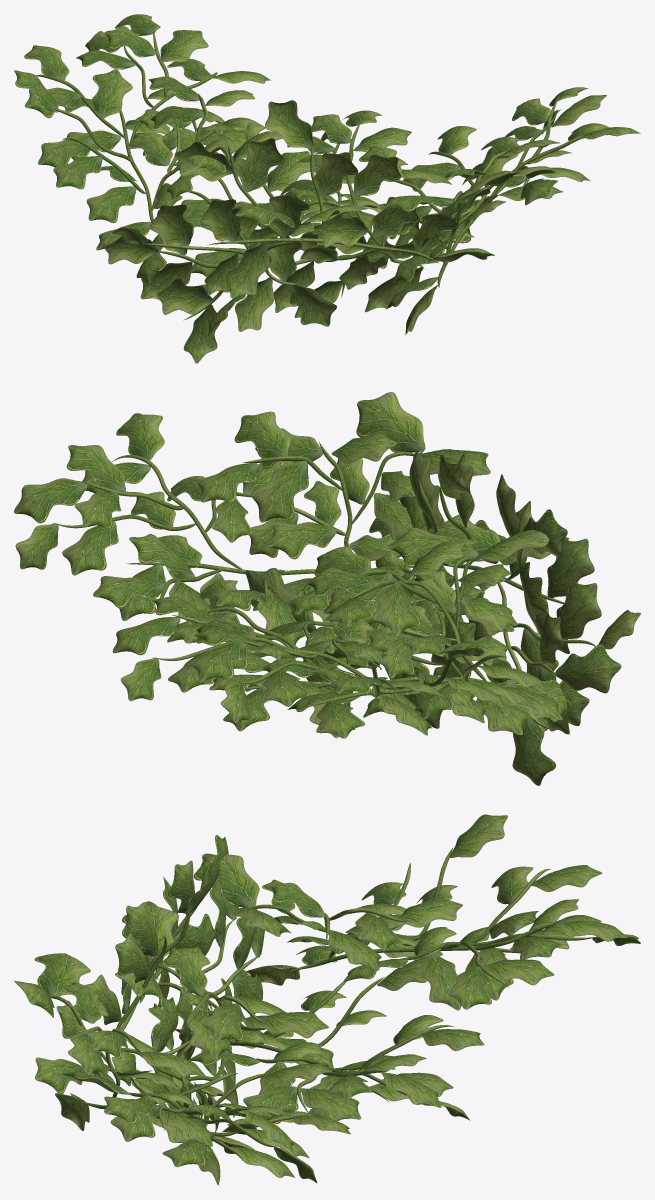
Rendered from creeper.glb.
3 renders of one model, top to bottom at view 1: azimuth 30°, elevation 25°; view 2: azimuth 150°, elevation 25°; view 3: azimuth 270°, elevation 25°, orthographic. The views are drawn at different scales.
Visible parts, largest first — view 1: Object_3; view 2: Object_3; view 3: Object_3.
Boxes of the visible parts, x1,y1,x2,y2 form: Object_3: (14,14,640,363); Object_3: (14,392,640,785); Object_3: (14,814,640,1185).
Bounding box in the file's own units: 17.83 × 8.58 × 17.34.
2 materials, 2 textured.
